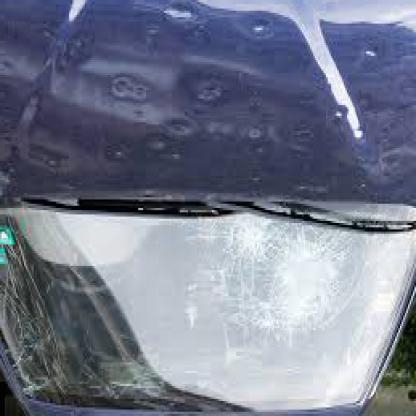dent: (112, 72, 146, 108), (162, 3, 196, 25), (243, 16, 277, 38)
